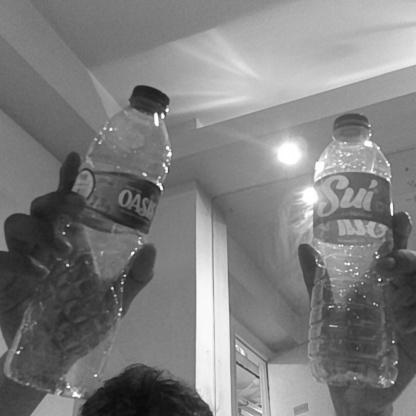plastic_bottles: (8, 88, 172, 393), (306, 110, 395, 383)
